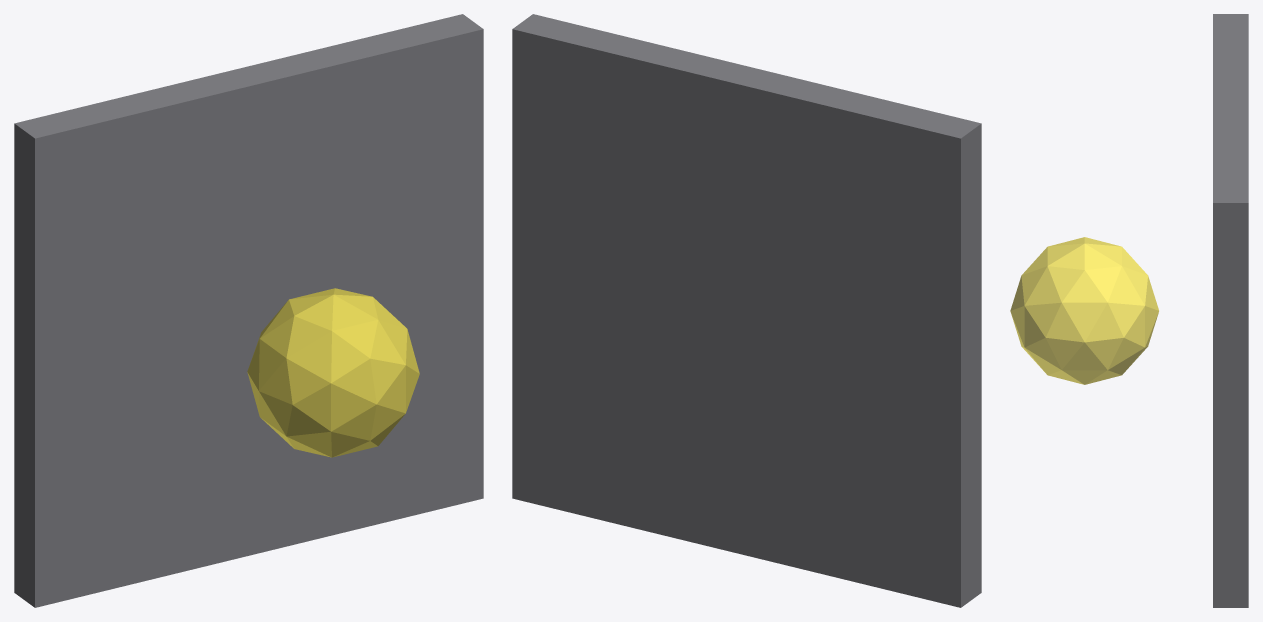
File: 10_lightning_rune_trap.glb
The picture shows the model from 3 angles, left to right: view 1: azimuth 30°, elevation 25°; view 2: azimuth 150°, elevation 25°; view 3: azimuth 270°, elevation 25°; orthographic projection. The views are drawn at different scales.
Parts seen in each view (by area): view 1: trap_base, hazard_core; view 2: trap_base; view 3: trap_base, hazard_core.
Boxes of the visible parts, x1=… form: trap_base: x1=14, y1=14, x2=483, y2=607; hazard_core: x1=247, y1=288, x2=419, y2=457; trap_base: x1=512, y1=14, x2=981, y2=607; trap_base: x1=1213, y1=14, x2=1248, y2=607; hazard_core: x1=1010, y1=237, x2=1158, y2=384.
Bounding box in the file's own units: 1.5 × 1.5 × 0.8.
